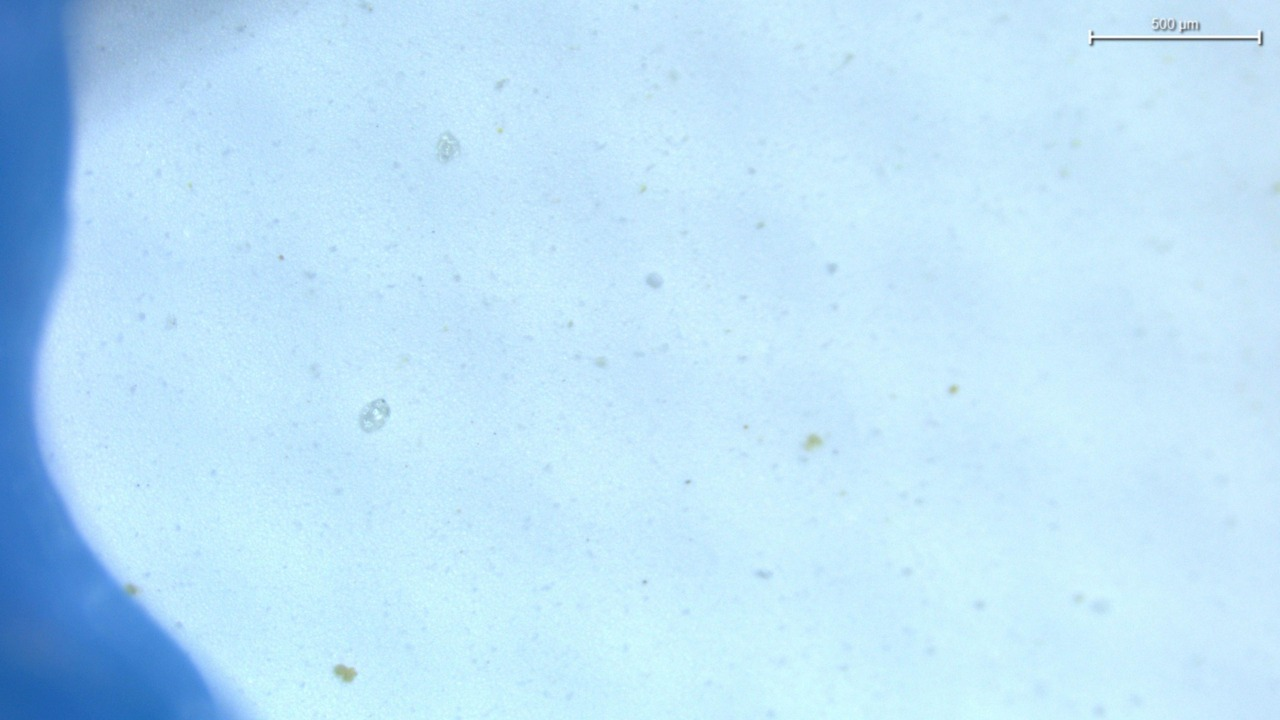microplastic_fragment: (359, 398, 390, 433)
